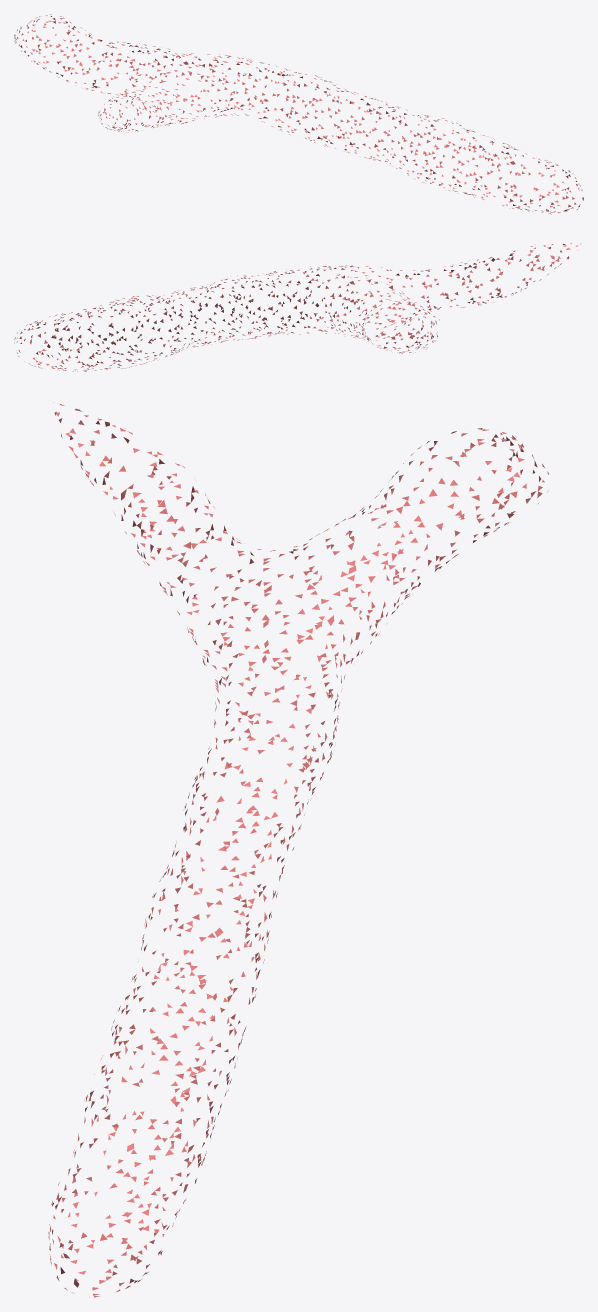
Rendered from morph_000.glb.
3 renders of one model, top to bottom at view 1: azimuth 30°, elevation 25°; view 2: azimuth 150°, elevation 25°; view 3: azimuth 270°, elevation 25°, orthographic. The views are drawn at different scales.
Bounding box in the file's own units: 104 × 44.69 × 45.77.
